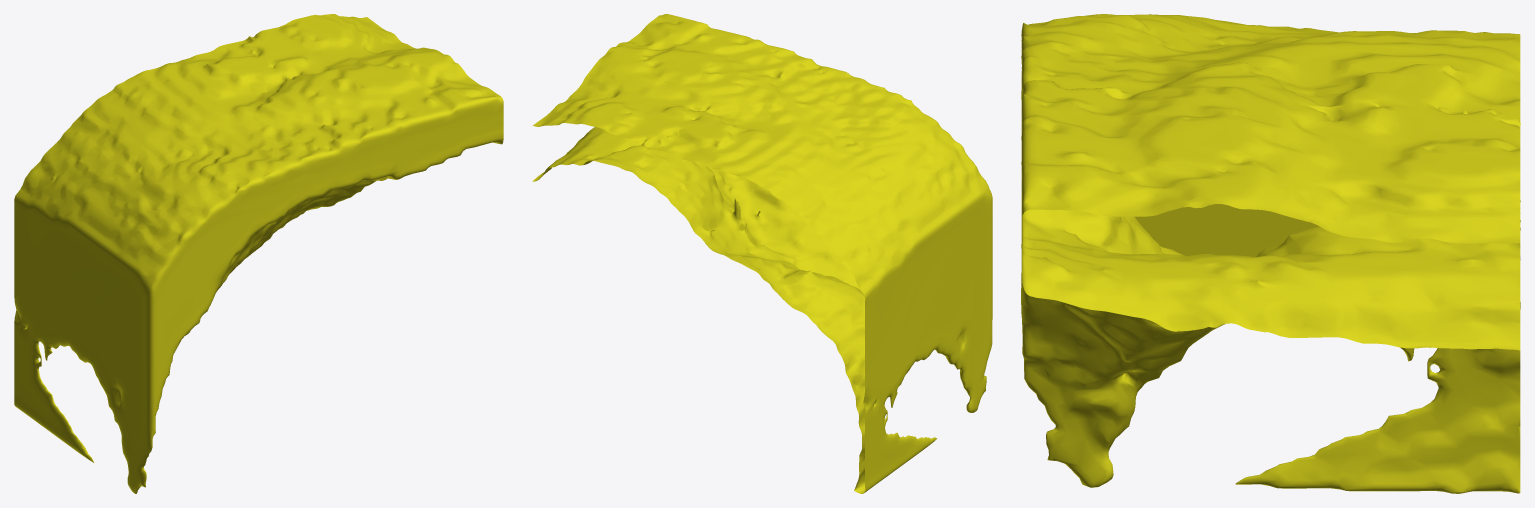
Rendered from Subcutaneous2.obj.
3 renders of one model, left to right at view 1: azimuth 30°, elevation 25°; view 2: azimuth 150°, elevation 25°; view 3: azimuth 270°, elevation 25°, orthographic. The views are drawn at different scales.
Visible parts, largest first — view 1: subcutaneous_fat2; view 2: subcutaneous_fat2; view 3: subcutaneous_fat2.
Boxes of the visible parts, x1,y1,x2,y2 form: subcutaneous_fat2: [14, 14, 503, 493]; subcutaneous_fat2: [532, 14, 992, 493]; subcutaneous_fat2: [1021, 14, 1520, 493].
Bounding box in the file's own units: 0.1526 × 0.1351 × 0.1027.
